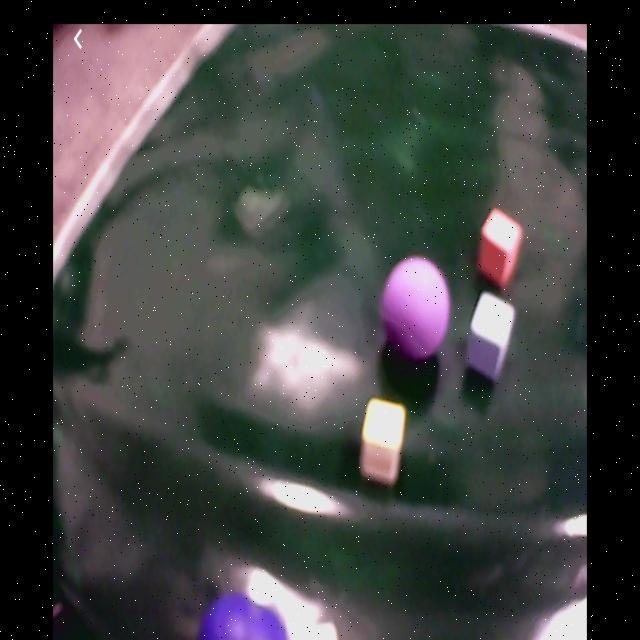ball: (384, 258, 449, 359), (198, 592, 288, 640)
